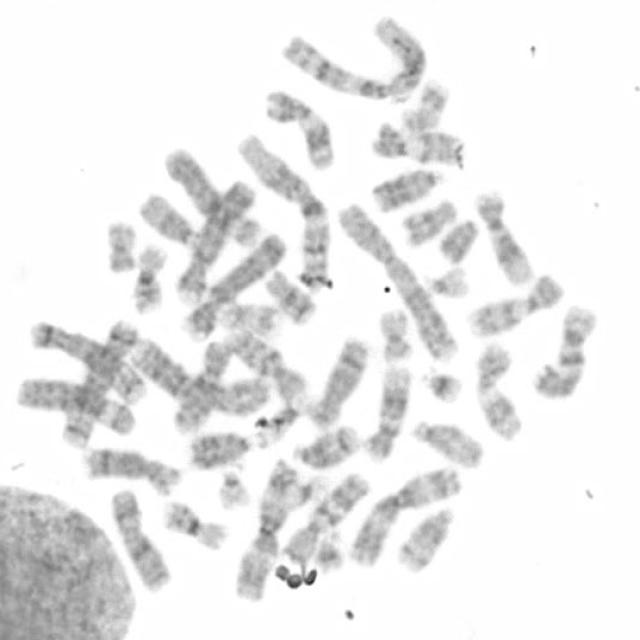A1: (236, 134, 330, 292), (284, 18, 430, 101)
A2: (333, 200, 467, 366), (125, 330, 275, 421)
A3: (344, 465, 458, 570), (235, 449, 303, 607)
B4: (169, 177, 261, 305), (185, 230, 286, 335)
B5: (54, 316, 140, 452), (27, 317, 149, 405)
C10: (225, 327, 311, 404), (168, 338, 234, 436)
C11: (261, 84, 338, 172), (470, 337, 523, 443)
C12: (471, 185, 537, 288), (360, 364, 412, 463)
C6: (161, 144, 261, 249), (11, 375, 139, 437)
C7: (280, 470, 373, 569), (527, 302, 596, 401)
C8: (308, 337, 370, 427), (80, 445, 180, 490)
C9: (462, 270, 568, 340), (362, 120, 462, 170)
D13: (368, 168, 447, 216), (184, 428, 258, 473)
D14: (392, 501, 457, 572), (289, 422, 361, 472)
D15: (134, 190, 202, 252), (410, 418, 485, 468)
E16: (159, 495, 231, 551), (129, 240, 169, 315)
E17: (390, 74, 453, 136), (211, 298, 284, 336)
E18: (260, 267, 319, 324), (396, 200, 456, 248)
F19: (251, 390, 310, 449), (278, 470, 332, 512)
F20: (373, 308, 415, 363), (100, 217, 138, 276)
G21: (417, 369, 463, 405), (313, 526, 347, 574)
G22: (419, 266, 472, 300), (214, 465, 250, 512)
X: (108, 490, 174, 591), (264, 160, 324, 220)
Y: (436, 217, 479, 264)
